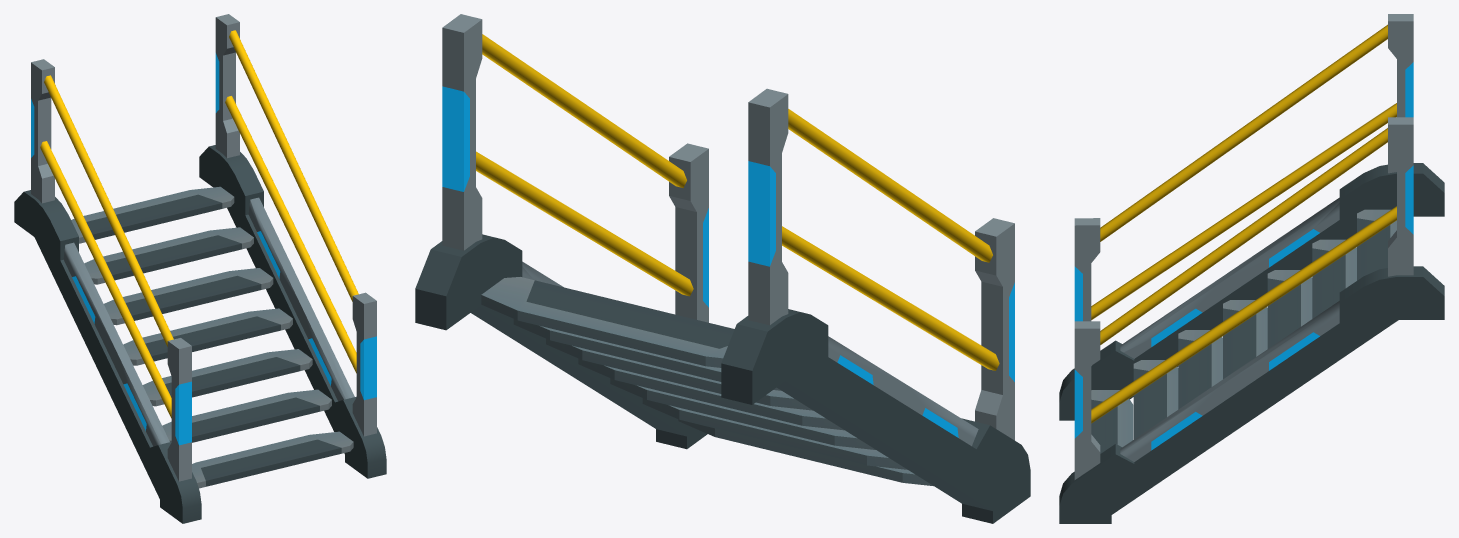
The model's file is Stair_type_C_002.glb.
3 renders of one model, left to right at view 1: azimuth 30°, elevation 25°; view 2: azimuth 150°, elevation 25°; view 3: azimuth 270°, elevation 25°, orthographic. The views are drawn at different scales.
Visible parts, largest first — view 1: Stair_type_C_fence_002, Stair_type_C_002; view 2: Stair_type_C_fence_002, Stair_type_C_002; view 3: Stair_type_C_fence_002, Stair_type_C_002.
Boxes of the visible parts, left/top/right/bottom form: Stair_type_C_fence_002: left=14, top=14, right=386, bottom=523; Stair_type_C_002: left=71, top=186, right=353, bottom=488; Stair_type_C_fence_002: left=415, top=14, right=1030, bottom=523; Stair_type_C_002: left=481, top=277, right=933, bottom=486; Stair_type_C_fence_002: left=1059, top=14, right=1444, bottom=523; Stair_type_C_002: left=1091, top=209, right=1396, bottom=453.
Bounding box in the file's own units: 1.79 × 2.92 × 2.57.
Materials: 2 (2 with a texture image).
